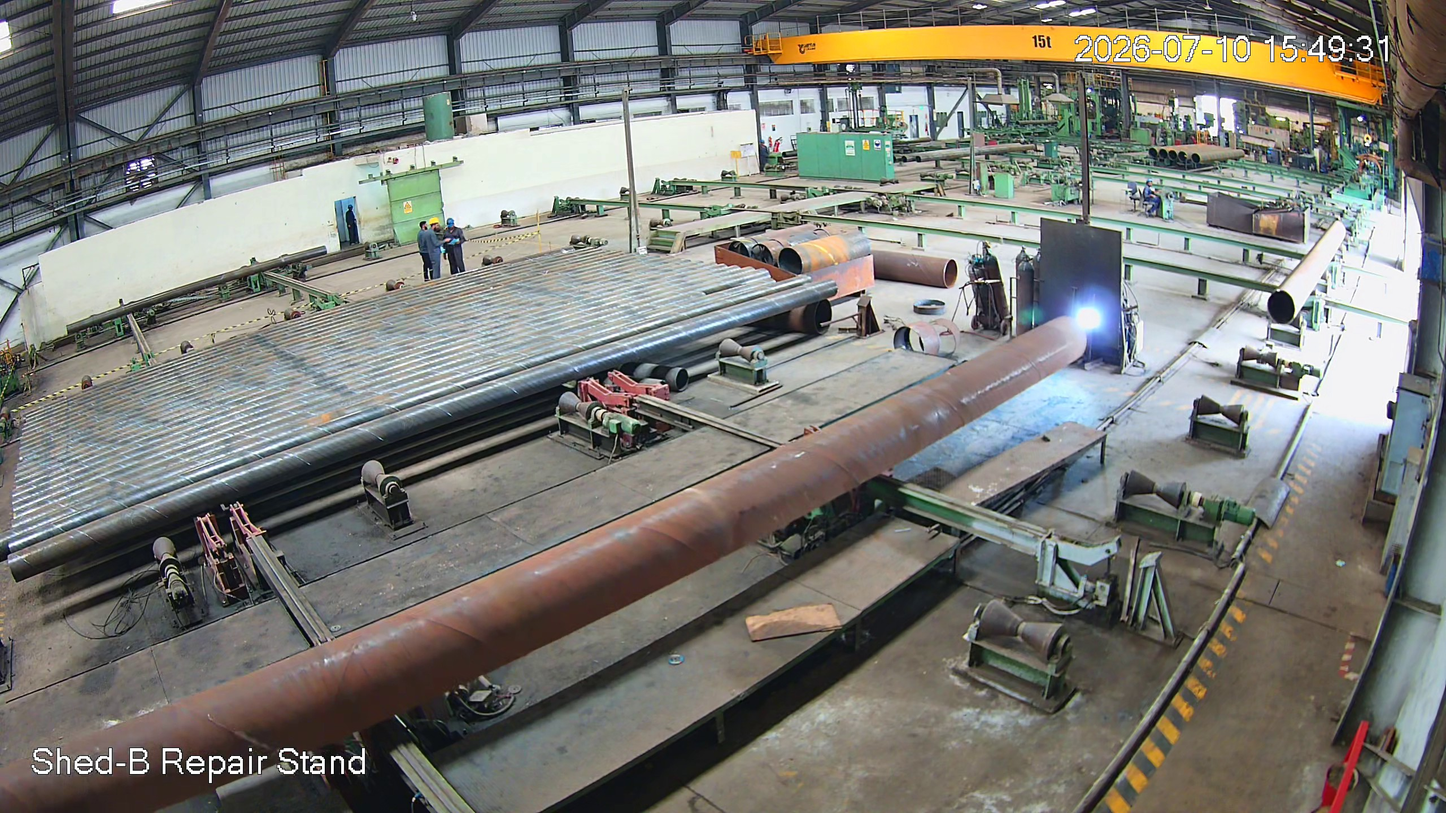Helmet: (444, 216, 465, 244), (426, 216, 444, 237)
Person: (441, 218, 468, 273), (424, 218, 445, 280)
